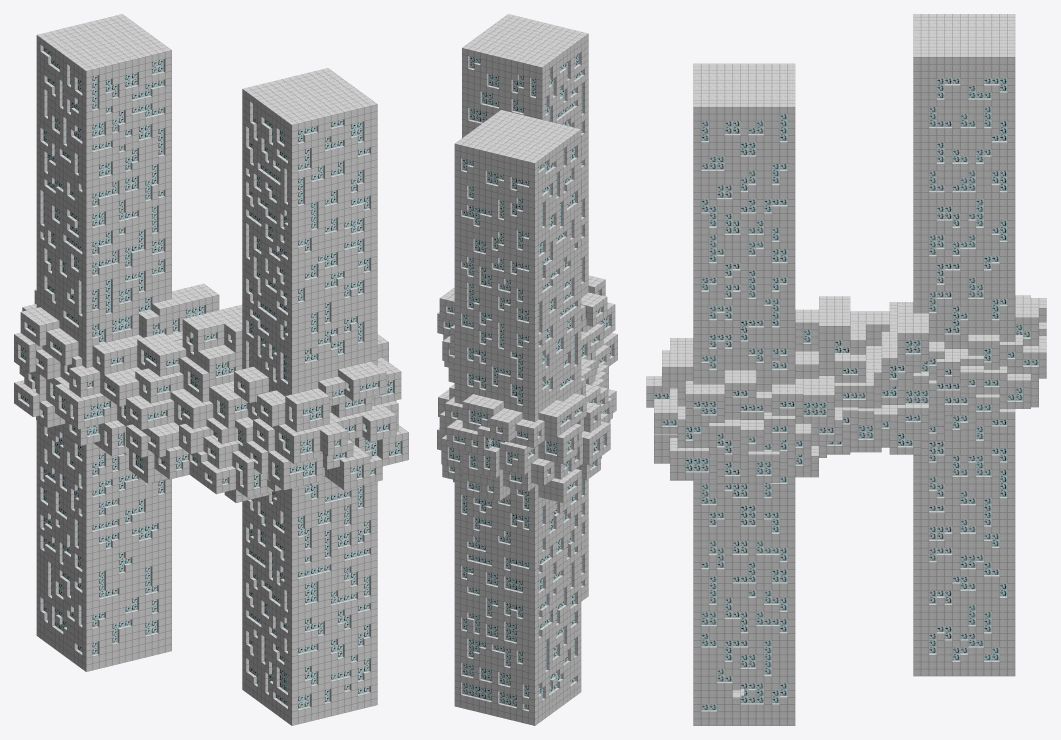
File: Puzzle-building.fbx
3 views of the same model, side by side, from view 1: azimuth 30°, elevation 25°; view 2: azimuth 150°, elevation 25°; view 3: azimuth 270°, elevation 25° (orthographic). The views are drawn at different scales.
Visible parts, largest first — view 1: Block_of_Iron, Glass_Pane; view 2: Block_of_Iron, Glass_Pane; view 3: Block_of_Iron, Glass_Pane.
Boxes of the visible parts, x1,y1,x2,y2 form: Block_of_Iron: (14, 14, 408, 725); Glass_Pane: (20, 47, 400, 708); Block_of_Iron: (437, 14, 617, 725); Glass_Pane: (445, 54, 611, 709); Block_of_Iron: (646, 14, 1046, 725); Glass_Pane: (654, 78, 1038, 710).
Size of the model in its own units: 3.6 by 8.7 by 5.1.
Materials: 4 (4 with a texture image).
